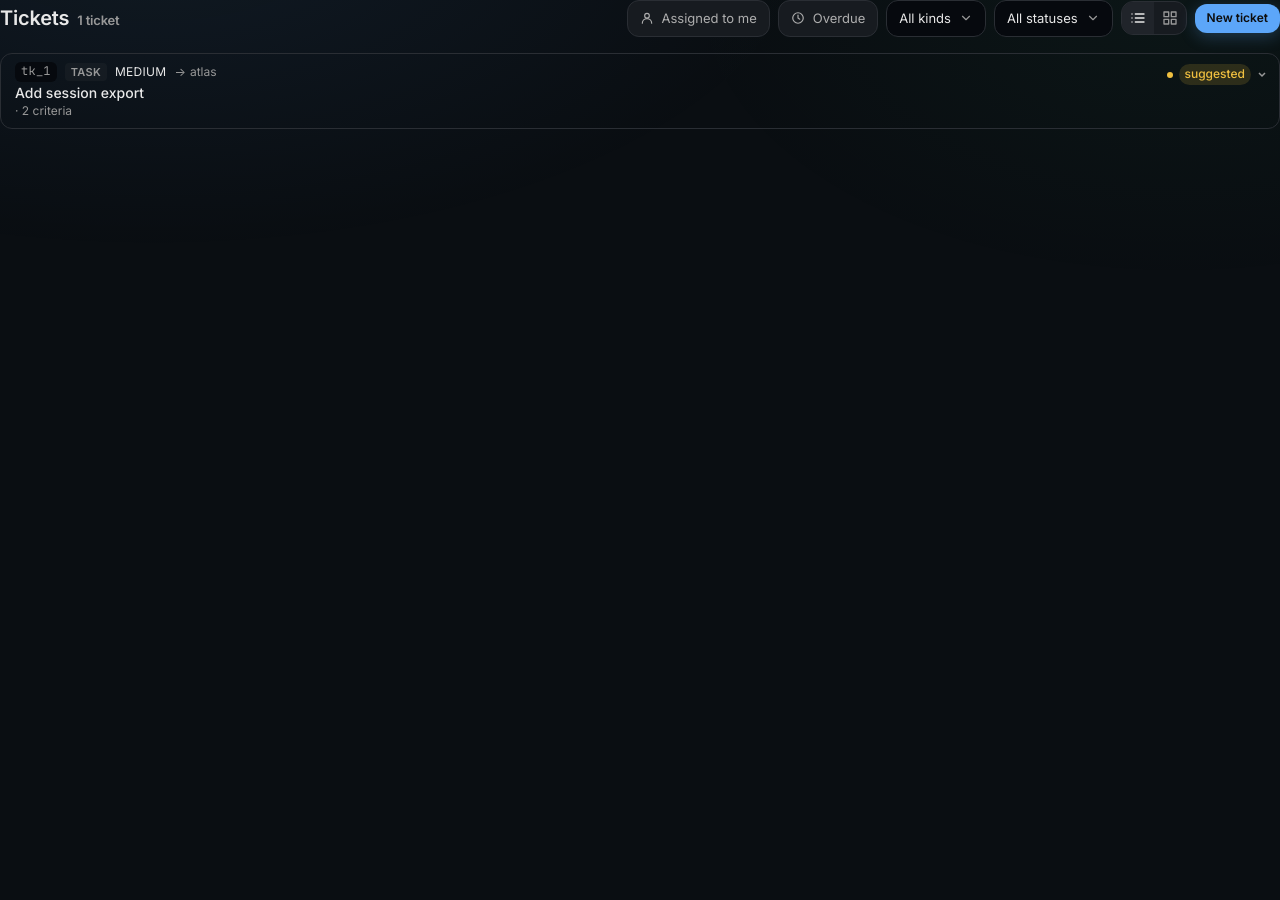
TicketsTab › opens the new ticket modal
Click the button "New ticket".
click(1237, 18)  # box [1195, 4, 1279, 33]
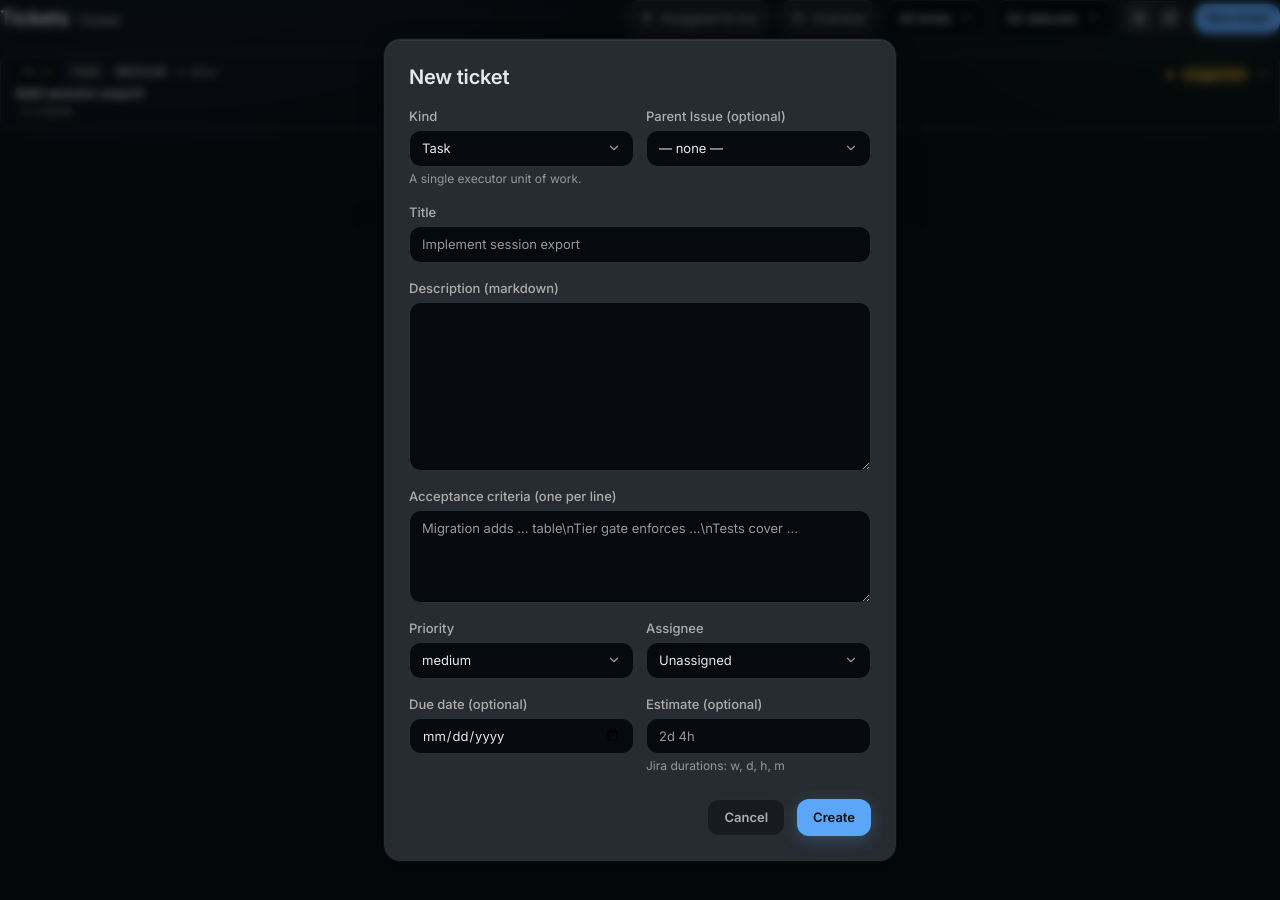
Result: the dialog is shown at [384, 39, 896, 861]
Result: the heading "New ticket" is shown at [409, 65, 509, 89]
